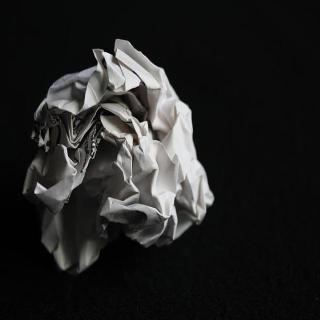Anorganik: (17, 32, 215, 270)
